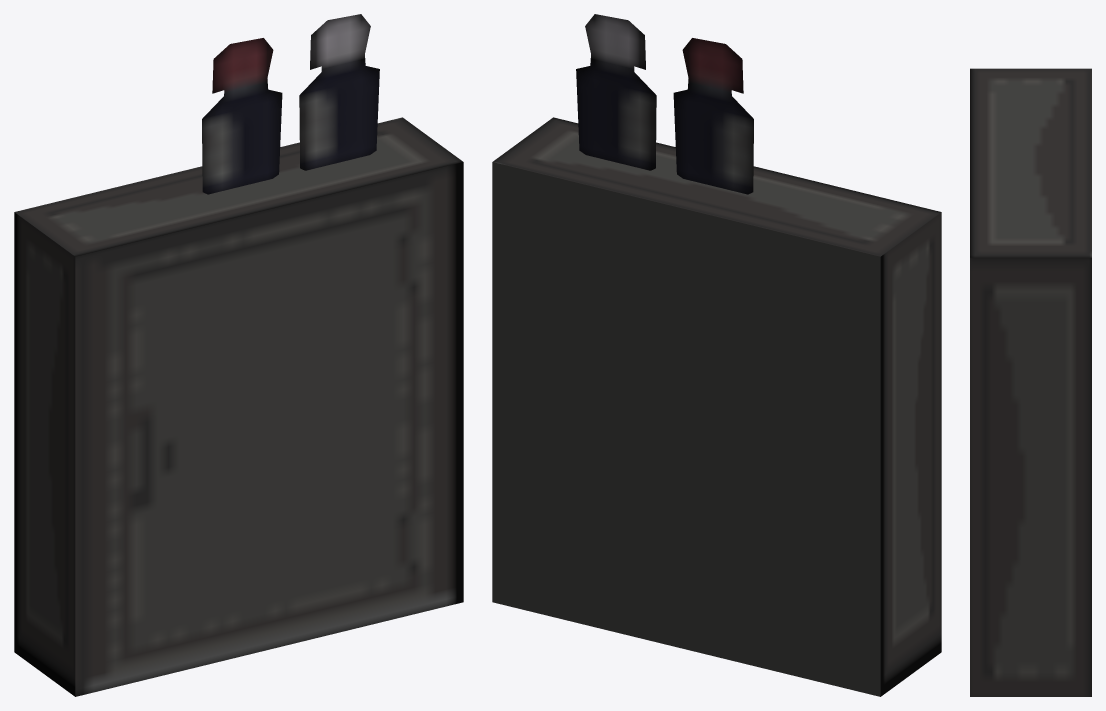
File: MedicamentShelf.fbx
The picture shows the model from 3 angles, left to right: view 1: azimuth 30°, elevation 25°; view 2: azimuth 150°, elevation 25°; view 3: azimuth 270°, elevation 25°; orthographic projection.
Visible parts, largest first — view 1: Medicament_Shelf; view 2: Medicament_Shelf; view 3: Medicament_Shelf.
Boxes of the visible parts, <box> form: Medicament_Shelf: <box>14,14,463,696</box>; Medicament_Shelf: <box>492,14,941,696</box>; Medicament_Shelf: <box>970,68,1091,696</box>.
Bounding box in the file's own units: 0.9011 × 1.3 × 0.2453.
